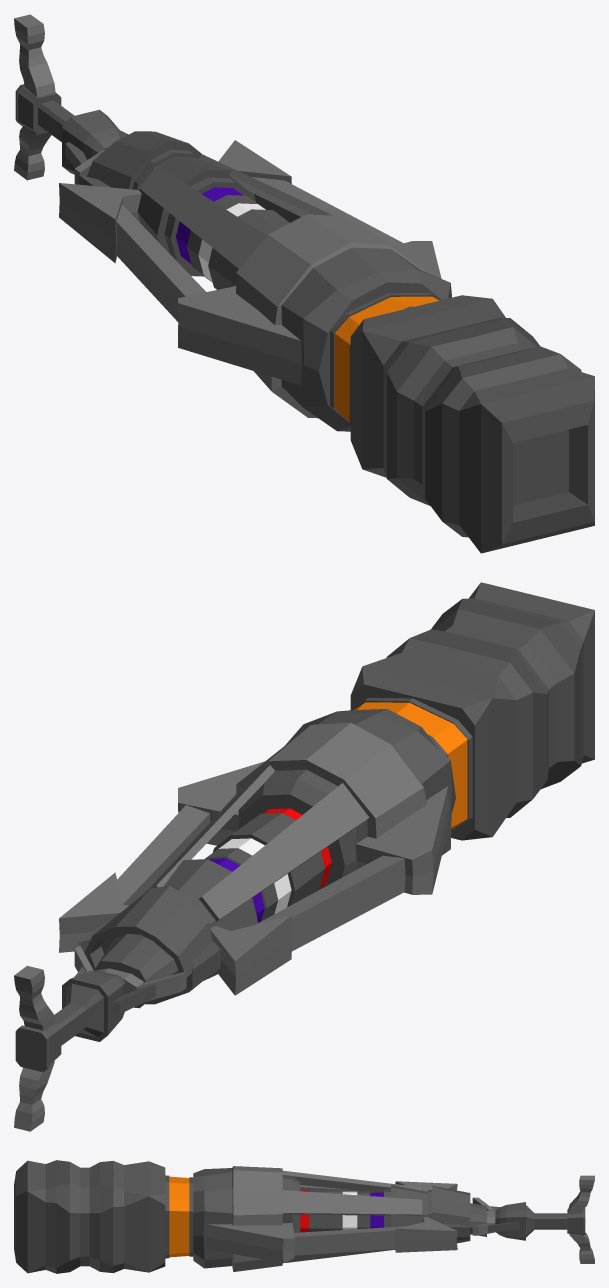
The model's file is Randomizer.fbx.
3 renders of one model, top to bottom at view 1: azimuth 30°, elevation 25°; view 2: azimuth 150°, elevation 25°; view 3: azimuth 270°, elevation 25°, orthographic. The views are drawn at different scales.
Parts seen in each view (by area): view 1: Randomizer; view 2: Randomizer; view 3: Randomizer.
Boxes of the visible parts, left/top/right/bottom form: Randomizer: left=14, top=14, right=594, bottom=553; Randomizer: left=14, top=582, right=594, bottom=1131; Randomizer: left=14, top=1160, right=594, bottom=1273.
Size of the model in its own units: 28.35 by 18.79 by 102.
